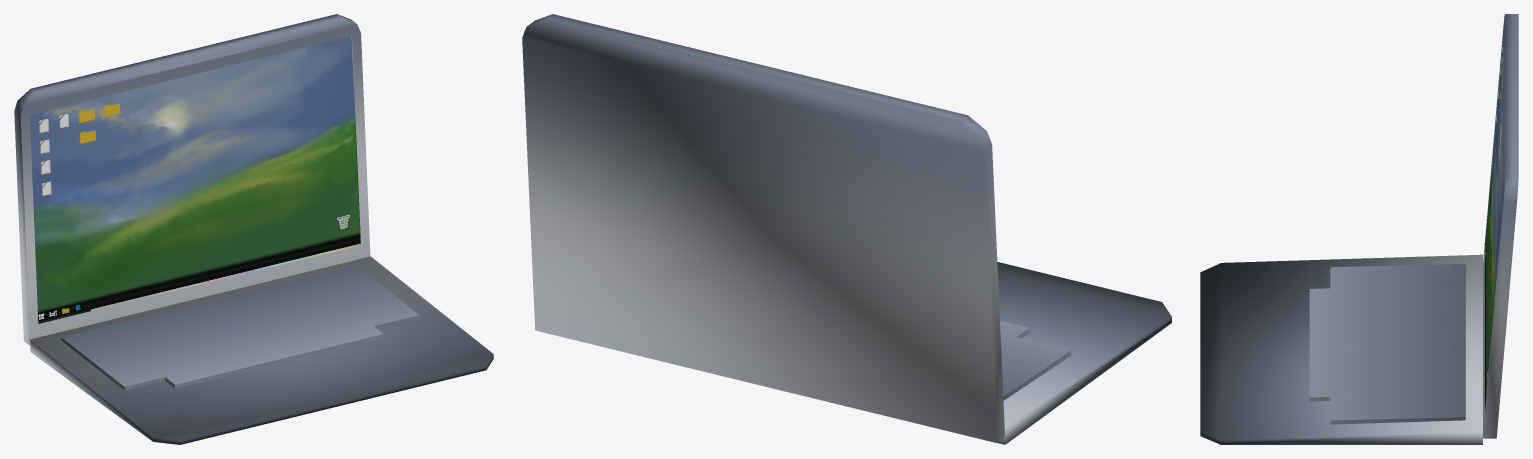
The model's file is Laptop_On.fbx.
3 views of the same model, side by side, from view 1: azimuth 30°, elevation 25°; view 2: azimuth 150°, elevation 25°; view 3: azimuth 270°, elevation 25° (orthographic). The views are drawn at different scales.
Parts seen in each view (by area): view 1: Laptop_On; view 2: Laptop_On; view 3: Laptop_On.
Boxes of the visible parts, x1=… form: Laptop_On: x1=14, y1=14, x2=493, y2=444; Laptop_On: x1=522, y1=14, x2=1171, y2=444; Laptop_On: x1=1200, y1=14, x2=1518, y2=444.
Size of the model in its own units: 41.29 by 28.59 by 31.41.
